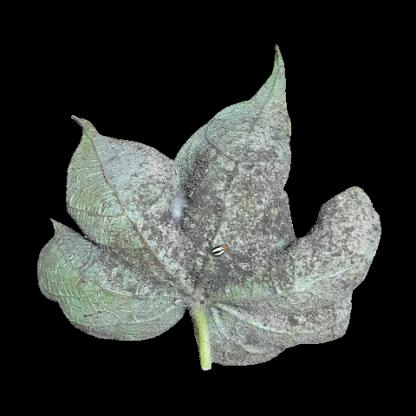curl_stage2: (82, 147, 125, 222)
sooty: (161, 186, 286, 291), (92, 236, 165, 317), (287, 243, 342, 338), (200, 132, 290, 187), (213, 302, 284, 367), (324, 204, 375, 254)
